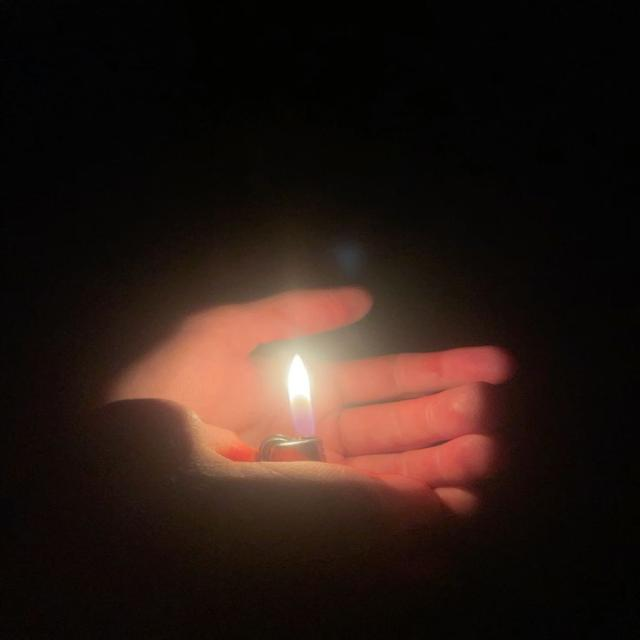fire: (286, 353, 315, 439)
